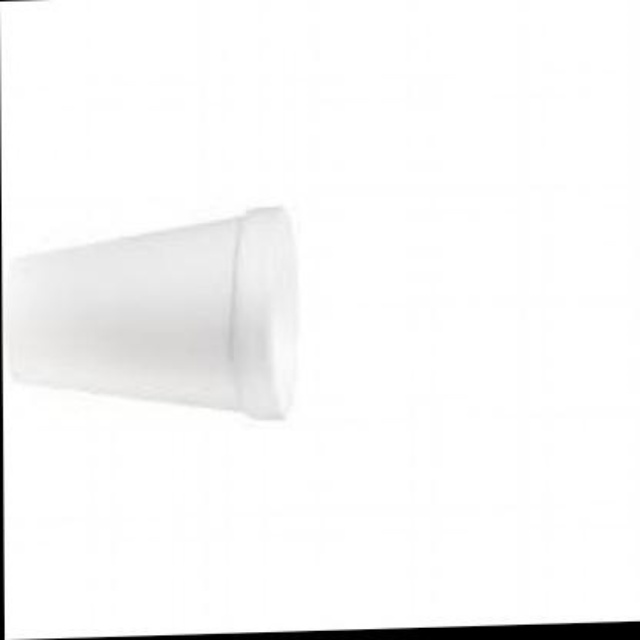trash: (8, 208, 295, 417)
